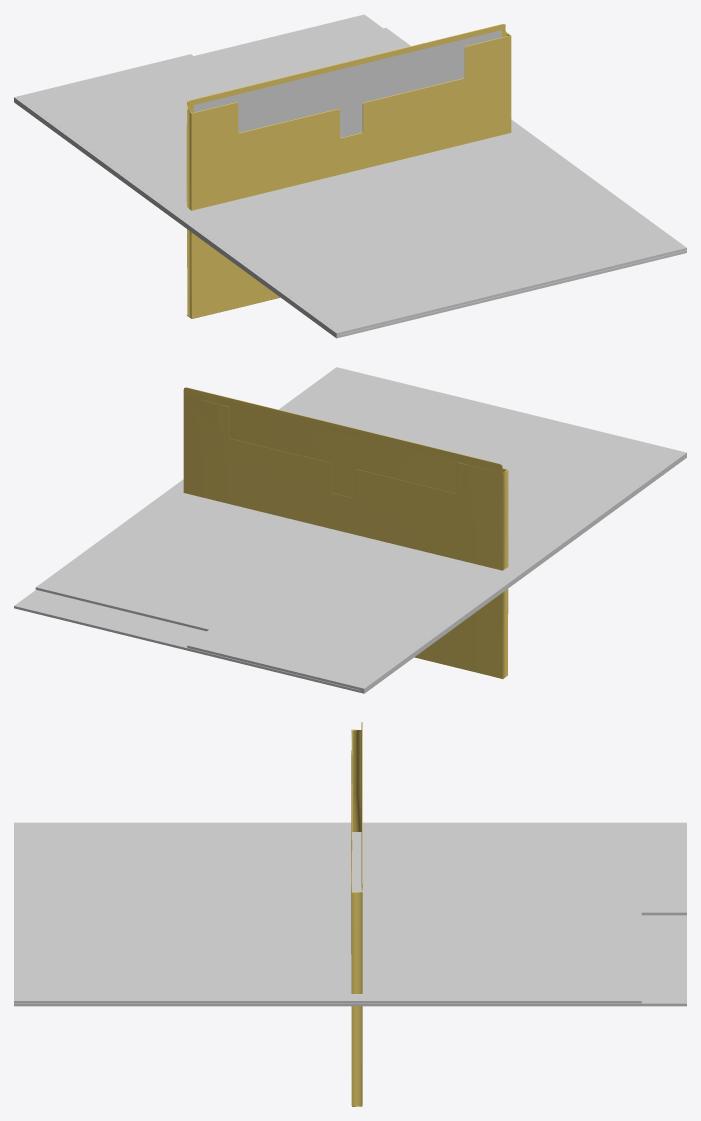
Rendered from case_file1.fbx.
3 views of the same model, one above another, from view 1: azimuth 30°, elevation 25°; view 2: azimuth 150°, elevation 25°; view 3: azimuth 270°, elevation 25° (orthographic). The views are drawn at different scales.
Parts seen in each view (by area): view 1: folder top, Plane, Plane.001, folder base; view 2: folder top, Plane, folder base; view 3: folder top, folder base, Plane.
Boxes of the visible parts, left/top/right/bottom form: folder top: left=18, top=28, right=686, bottom=334; Plane: left=186, top=24, right=511, bottom=318; Plane.001: left=193, top=30, right=501, bottom=137; folder base: left=14, top=14, right=686, bottom=338; folder top: left=35, top=367, right=682, bottom=689; Plane: left=183, top=387, right=508, bottom=679; folder base: left=14, top=452, right=686, bottom=693; folder top: left=14, top=824, right=686, bottom=1003; folder base: left=14, top=822, right=686, bottom=1006; Plane: left=351, top=722, right=362, bottom=1106.
Size of the model in its own units: 618 by 362 by 986.
